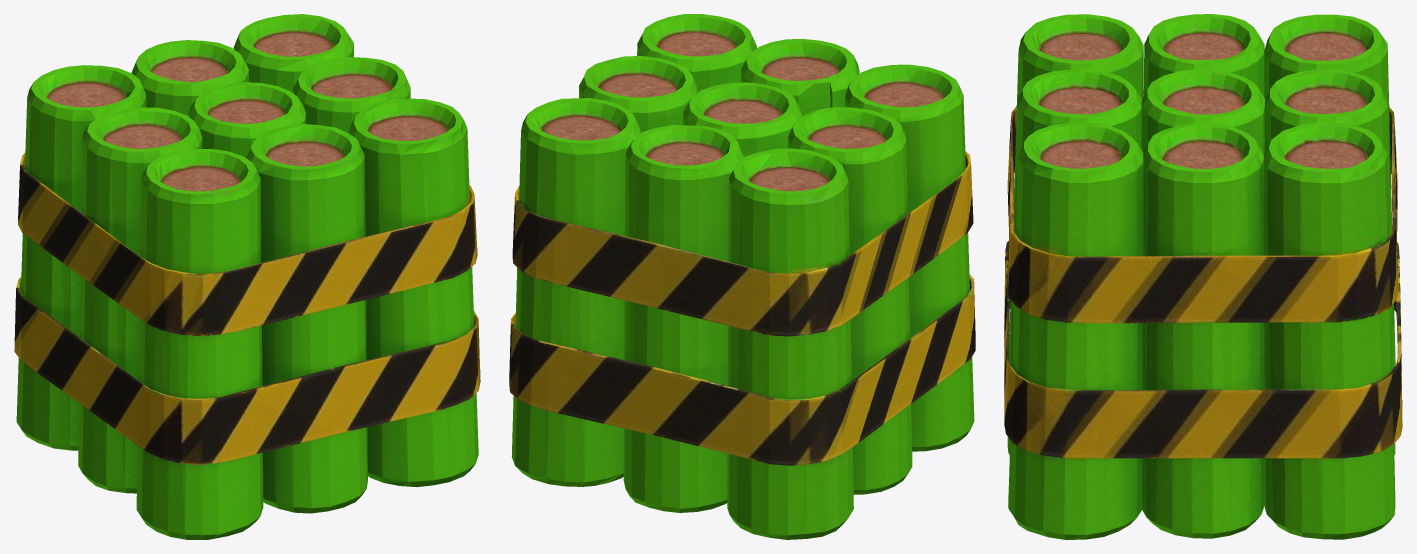
The model's file is nitro-bundle.glb.
3 views of the same model, side by side, from view 1: azimuth 30°, elevation 25°; view 2: azimuth 150°, elevation 25°; view 3: azimuth 270°, elevation 25° (orthographic). The views are drawn at different scales.
Size of the model in its own units: 1 by 1 by 0.9902.
1 material, 1 textured.
